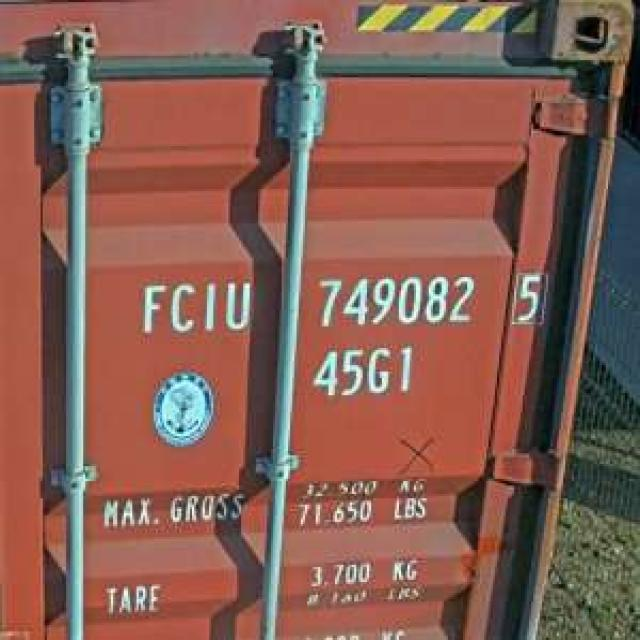dv: (508, 264, 550, 331)
owner: (132, 275, 254, 341)
serial: (307, 266, 480, 333)
size: (307, 341, 416, 404)
